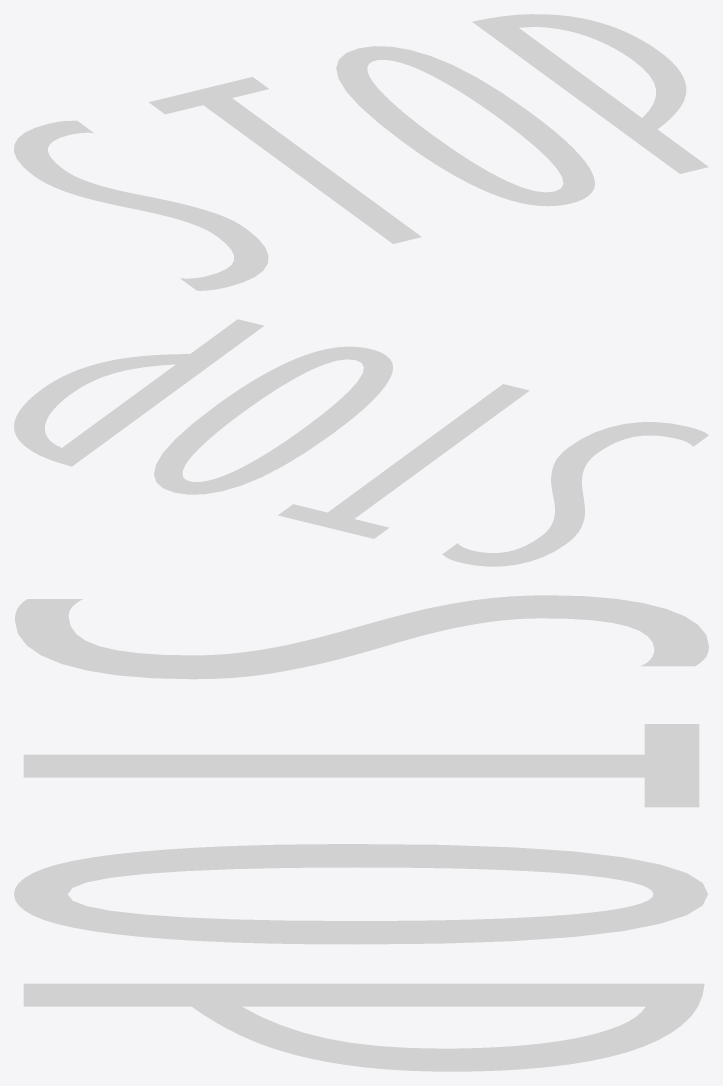
Rendered from stop.fbx.
The picture shows the model from 3 angles, top to bottom: view 1: azimuth 30°, elevation 25°; view 2: azimuth 150°, elevation 25°; view 3: azimuth 270°, elevation 25°; orthographic projection. The views are drawn at different scales.
Visible parts, largest first — view 1: stop; view 2: stop; view 3: stop.
Boxes of the visible parts, box(x1,y1,x2,y2) form: stop: box(14, 14, 708, 290); stop: box(14, 319, 708, 566); stop: box(14, 595, 708, 1071).
Size of the model in its own units: 14.83 by 1.49e-06 by 9.14.
